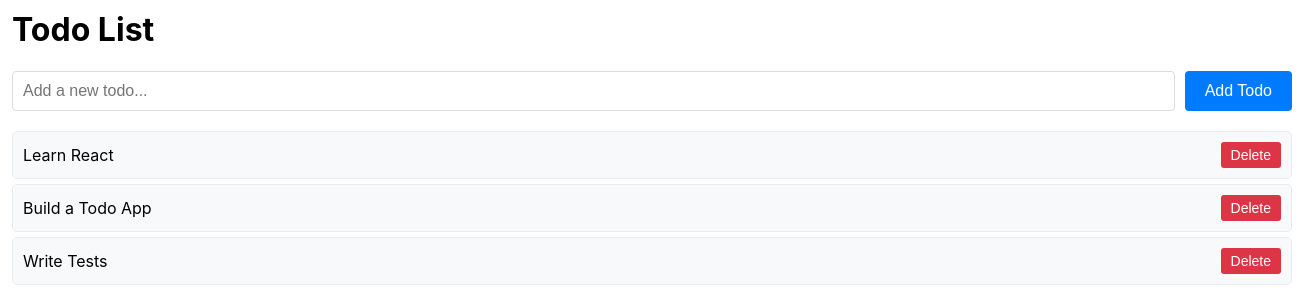
TodoList Component › deletes todo
This screenshot has width=1304, height=302.
Check: the text "Learn React" is shown, box [23,145,114,165]
Click the button with test id "delete-1" at (1251, 155), box [1220,142,1281,168]
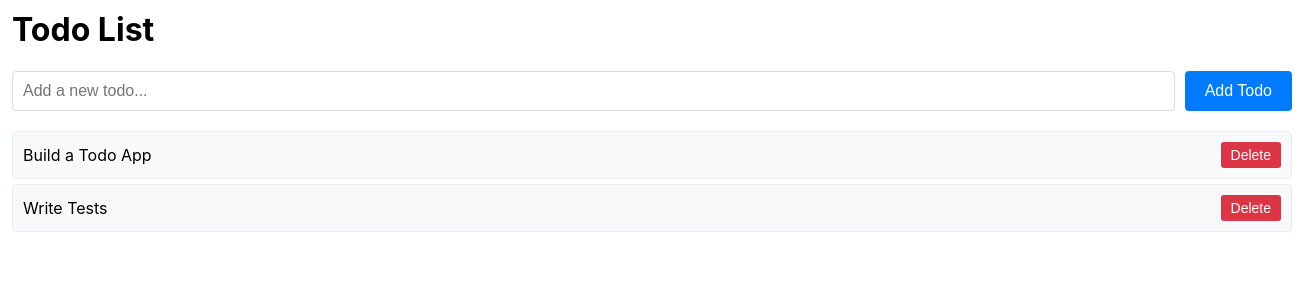
Check: the text "Learn React" is gone
